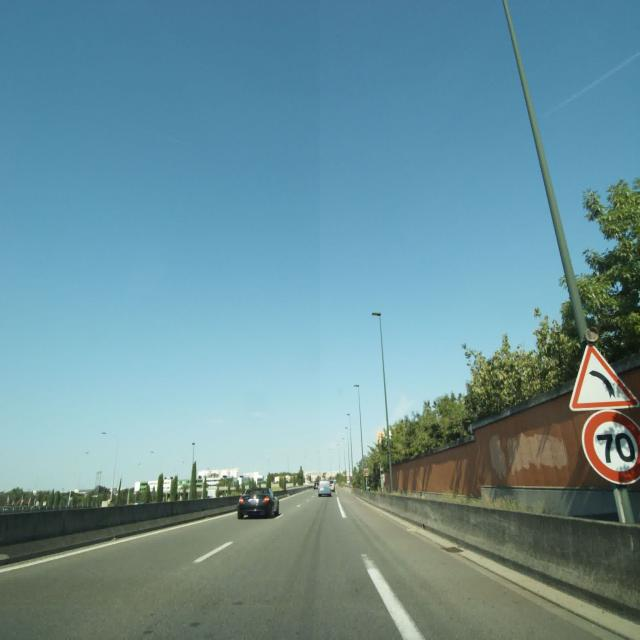car: (238, 485, 280, 519), (318, 480, 332, 496), (329, 479, 336, 490), (314, 481, 319, 489)
